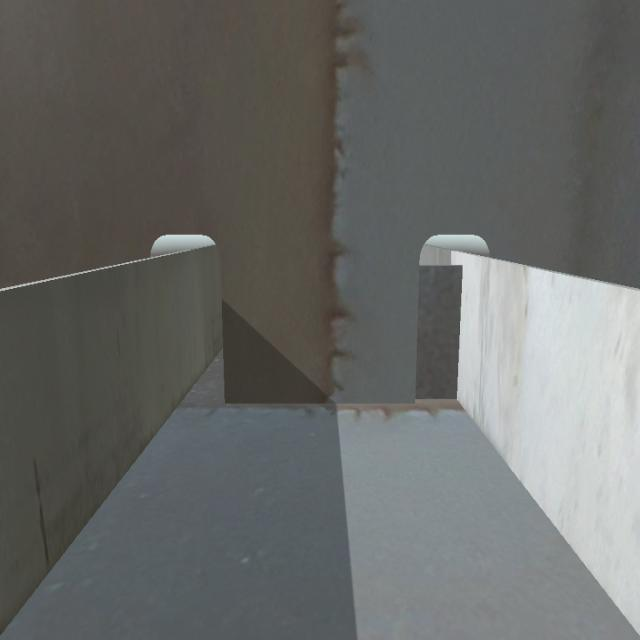fillet_yong_jeop_jang: (223, 394, 460, 414)
longi_yong_jeop_jang: (452, 260, 468, 409)
plate_behind: (416, 266, 461, 406)
